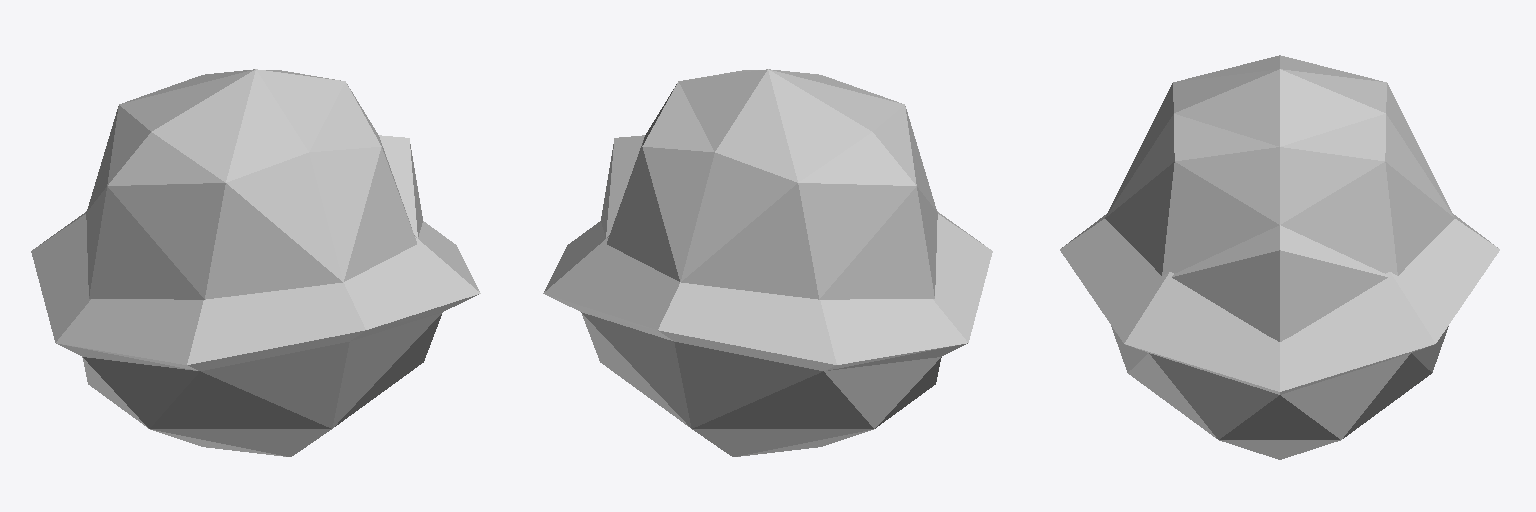
Rendered from Blue Shell.obj.
The picture shows the model from 3 angles: view 1: azimuth 30°, elevation 25°; view 2: azimuth 150°, elevation 25°; view 3: azimuth 270°, elevation 25°; orthographic projection.
Visible parts, largest first — view 1: polygon0; view 2: polygon0; view 3: polygon0.
Part boxes in pixels (x1,y1,x2,y2): polygon0: (31,69,480,456); polygon0: (543,69,992,456); polygon0: (1060,55,1499,459).
Size of the model in its own units: 11.35 by 10.1 by 10.8.